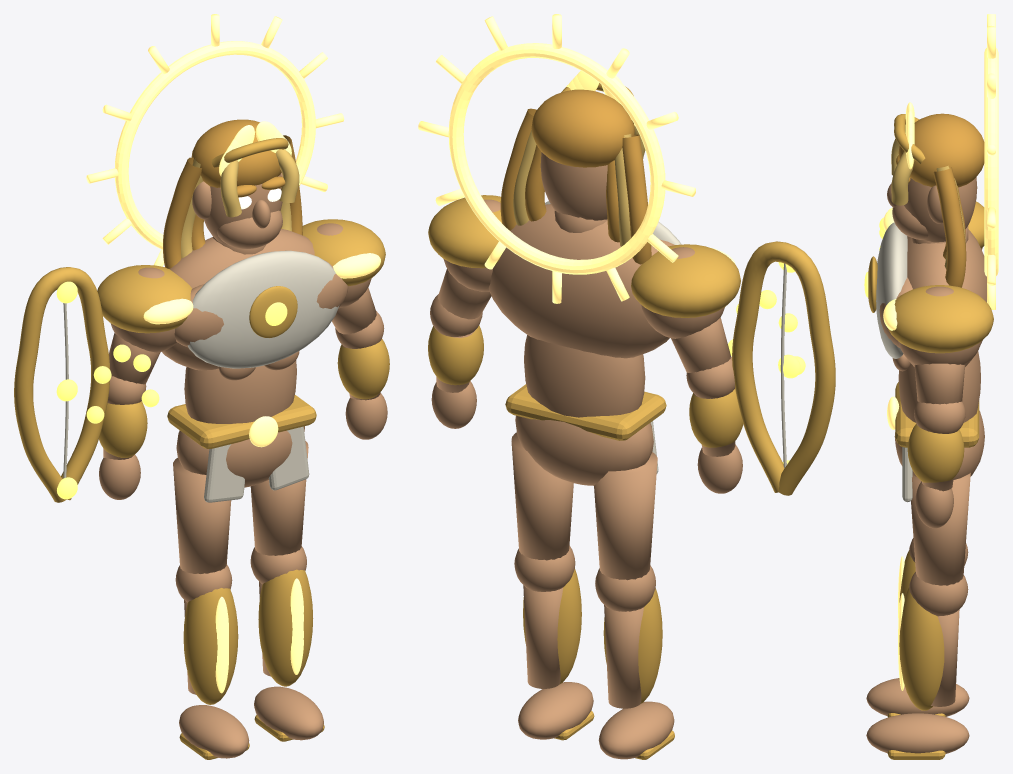
Rendered from ApolloModel.fbx.
3 renders of one model, left to right at view 1: azimuth 30°, elevation 25°; view 2: azimuth 150°, elevation 25°; view 3: azimuth 270°, elevation 25°, orthographic. The views are drawn at different scales.
Visible parts, largest first — view 1: Ivory Breastplate, Celestial Bow, Divine Solar Halo, Abdomen, Upper Leg, Golden Greave.001, Golden Greave, Golden Pauldron, Upper Leg.001, Chest, Pelvis, Hair Cap (+32 smaller); view 2: Chest, Celestial Bow, Divine Solar Halo, Abdomen, Upper Leg, Hair Cap, Golden Pauldron, Pelvis, Upper Leg.001, Golden Pauldron.001, Lower Leg, Lower Leg.001 (+25 smaller); view 3: Golden Pauldron.001, Hair Cap, Upper Leg.001, Golden Greave.001, Foot.001, Chest, Divine Solar Halo, Golden Bracer.001, Ivory Breastplate, Flowing Golden Hair.005, Upper Arm.001, Foot (+24 smaller).
Boxes of the visible parts, x1,y1,x2,y2 form: Ivory Breastplate: [187, 250, 339, 368]; Celestial Bow: [14, 267, 110, 502]; Divine Solar Halo: [115, 41, 315, 249]; Abdomen: [184, 360, 296, 423]; Upper Leg: [173, 457, 231, 573]; Golden Greave.001: [258, 569, 313, 686]; Golden Greave: [183, 588, 238, 704]; Golden Pauldron: [97, 265, 191, 333]; Upper Leg.001: [250, 441, 308, 555]; Chest: [162, 229, 314, 370]; Pelvis: [176, 426, 304, 487]; Hair Cap: [191, 119, 281, 187]; Chest: [488, 204, 669, 358]; Celestial Bow: [732, 241, 835, 495]; Divine Solar Halo: [448, 43, 665, 274]; Abdomen: [524, 335, 645, 417]; Upper Leg: [594, 452, 657, 580]; Hair Cap: [531, 89, 634, 167]; Golden Pauldron: [631, 244, 740, 317]; Pelvis: [515, 415, 653, 485]; Upper Leg.001: [511, 432, 573, 560]; Golden Pauldron.001: [428, 195, 501, 268]; Lower Leg: [604, 605, 643, 708]; Lower Leg.001: [523, 585, 563, 688]; Golden Pauldron.001: [888, 285, 993, 353]; Hair Cap: [898, 113, 984, 187]; Upper Leg.001: [911, 473, 970, 585]; Golden Greave.001: [899, 587, 944, 710]; Foot.001: [866, 713, 969, 753]; Chest: [907, 229, 986, 366]; Divine Solar Halo: [984, 48, 998, 276]; Golden Bracer.001: [907, 423, 964, 482]; Ivory Breastplate: [876, 222, 907, 358]; Flowing Golden Hair.005: [933, 167, 966, 287]; Upper Arm.001: [914, 363, 965, 404]; Foot: [866, 678, 969, 716].
Size of what is drawn, in the model's own units: 337 by 606 by 104.
